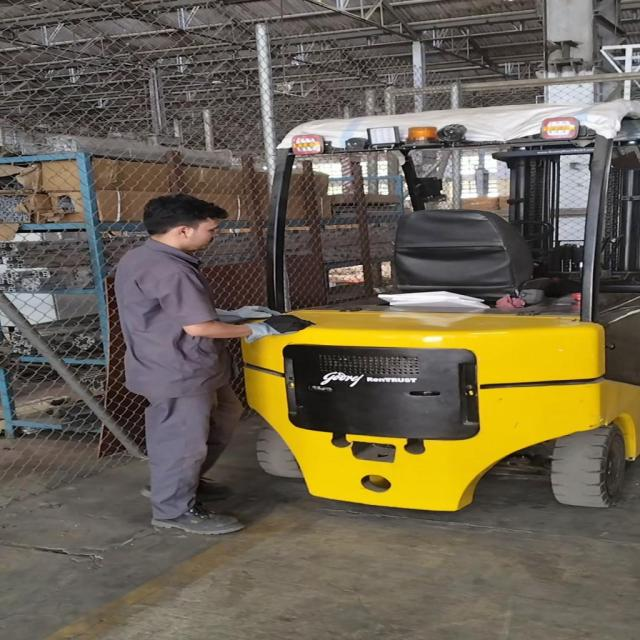Gloves-Detection: (214, 298, 300, 342)
